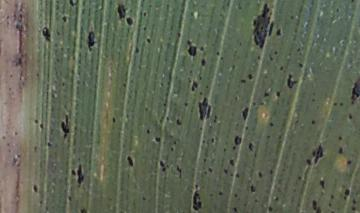tarspot: (248, 1, 276, 51), (57, 108, 75, 141), (194, 96, 213, 122), (188, 188, 206, 213), (345, 76, 360, 106), (311, 141, 327, 168), (38, 22, 55, 46), (183, 39, 200, 62), (84, 26, 98, 52), (114, 1, 129, 23), (283, 73, 300, 92), (316, 174, 330, 194), (74, 163, 86, 185), (239, 104, 252, 123), (307, 113, 321, 129), (173, 161, 186, 178), (125, 152, 137, 170), (154, 158, 168, 173), (244, 139, 258, 154), (188, 79, 201, 95), (232, 133, 245, 148), (246, 180, 258, 196), (276, 60, 288, 76), (226, 156, 239, 169), (29, 181, 41, 195), (196, 55, 210, 67), (29, 142, 43, 154), (274, 87, 284, 103), (59, 12, 71, 25), (142, 34, 155, 46), (158, 96, 171, 108), (124, 15, 136, 27), (151, 134, 163, 146), (192, 181, 204, 193), (335, 143, 346, 156), (265, 202, 278, 213), (212, 48, 225, 59), (296, 58, 306, 72), (305, 155, 314, 170), (342, 187, 351, 202), (174, 116, 186, 127), (239, 76, 250, 88), (254, 168, 265, 180), (334, 134, 346, 145), (346, 110, 357, 122), (233, 171, 245, 182), (266, 51, 277, 63), (267, 164, 277, 177), (226, 169, 239, 179), (142, 103, 152, 116), (295, 171, 306, 182), (230, 189, 241, 200), (140, 25, 151, 36), (45, 139, 55, 151), (263, 130, 272, 143), (67, 1, 83, 8), (204, 164, 214, 175), (287, 12, 298, 22), (275, 26, 284, 38), (199, 43, 208, 55), (142, 7, 150, 20), (247, 70, 255, 83), (212, 112, 220, 125), (132, 45, 142, 55), (174, 29, 184, 39), (261, 89, 271, 99), (210, 135, 220, 145), (215, 186, 224, 197), (230, 204, 241, 213), (138, 192, 149, 201), (310, 197, 318, 209), (330, 98, 338, 110), (38, 121, 47, 131), (143, 126, 153, 135), (120, 80, 130, 89), (110, 113, 117, 125), (78, 205, 88, 213), (33, 116, 41, 126), (267, 118, 274, 129), (339, 98, 346, 109), (345, 159, 354, 167), (200, 137, 208, 146), (183, 98, 190, 108), (328, 192, 336, 200), (167, 145, 175, 153), (255, 54, 263, 62), (66, 195, 74, 202)
